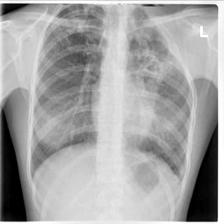tuberculosis: (21, 4, 197, 212)
